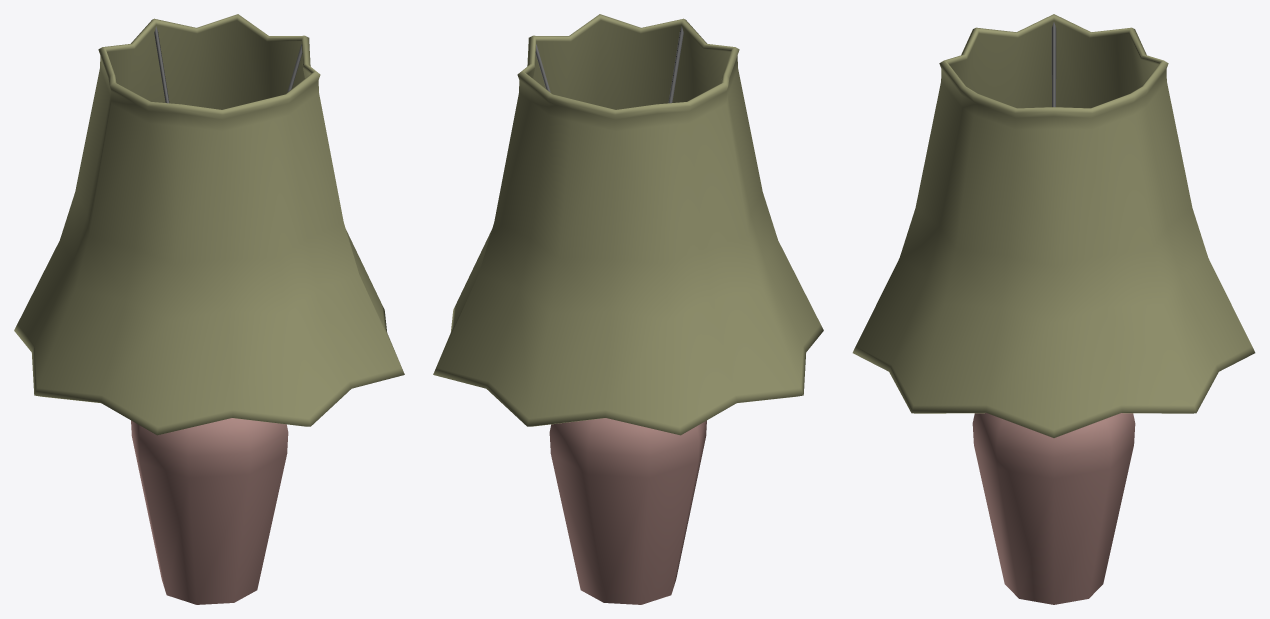
The model's file is table_lamp2.fbx.
The picture shows the model from 3 angles, left to right: view 1: azimuth 30°, elevation 25°; view 2: azimuth 150°, elevation 25°; view 3: azimuth 270°, elevation 25°; orthographic projection.
Parts seen in each view (by area): view 1: table_lamp2; view 2: table_lamp2; view 3: table_lamp2.
Part boxes in pixels (<box>): table_lamp2: <box>14,14,404,604</box>; table_lamp2: <box>433,14,823,604</box>; table_lamp2: <box>852,14,1255,604</box>.
Size of the model in its own units: 0.4309 by 0.6174 by 0.4309.
